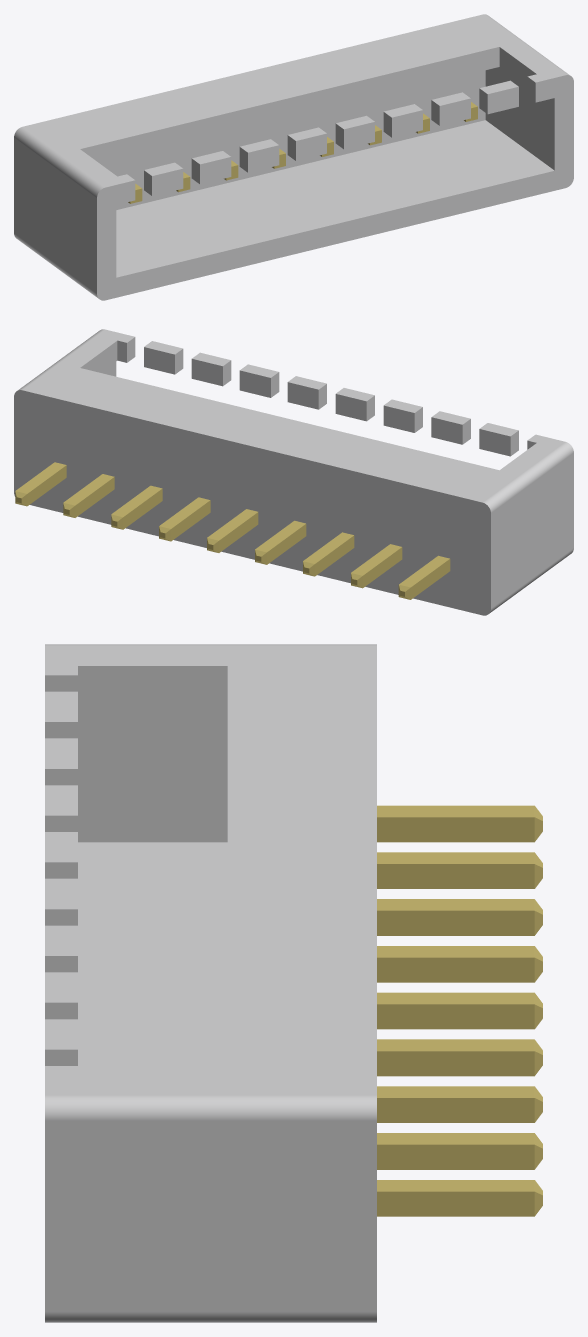
Rendered from jst_ph_9pin.glb.
3 renders of one model, top to bottom at view 1: azimuth 30°, elevation 25°; view 2: azimuth 150°, elevation 25°; view 3: azimuth 270°, elevation 25°, orthographic. The views are drawn at different scales.
Parts seen in each view (by area): view 1: world; view 2: world; view 3: world.
Boxes of the visible parts, x1,y1,x2,y2 form: world: [14, 14, 573, 300]; world: [14, 329, 573, 615]; world: [45, 644, 542, 1322].
Bounding box in the file's own units: 19.9 × 4.5 × 9.
